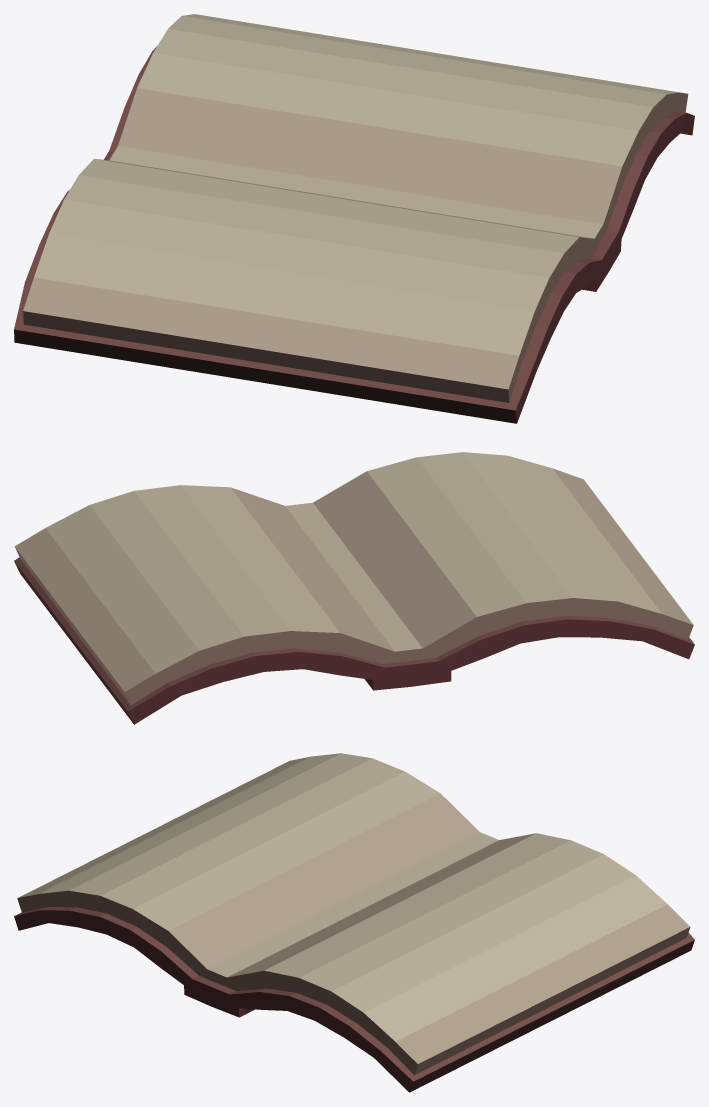
File: BukuProlog.fbx
The picture shows the model from 3 angles, top to bottom: view 1: azimuth 30°, elevation 25°; view 2: azimuth 150°, elevation 25°; view 3: azimuth 270°, elevation 25°; orthographic projection. The views are drawn at different scales.
Visible parts, largest first — view 1: Cube.026; view 2: Cube.026; view 3: Cube.026.
Boxes of the visible parts, x1,y1,x2,y2 form: Cube.026: (14, 14, 694, 423); Cube.026: (14, 452, 694, 724); Cube.026: (14, 753, 694, 1092).
Size of the model in its own units: 179 by 25.47 by 180.
